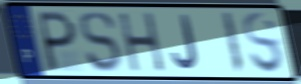H: (116, 11, 168, 74)
I: (220, 11, 246, 76)
J: (170, 13, 201, 72)
P: (37, 9, 78, 75)
S: (241, 10, 286, 77), (78, 10, 123, 74)
